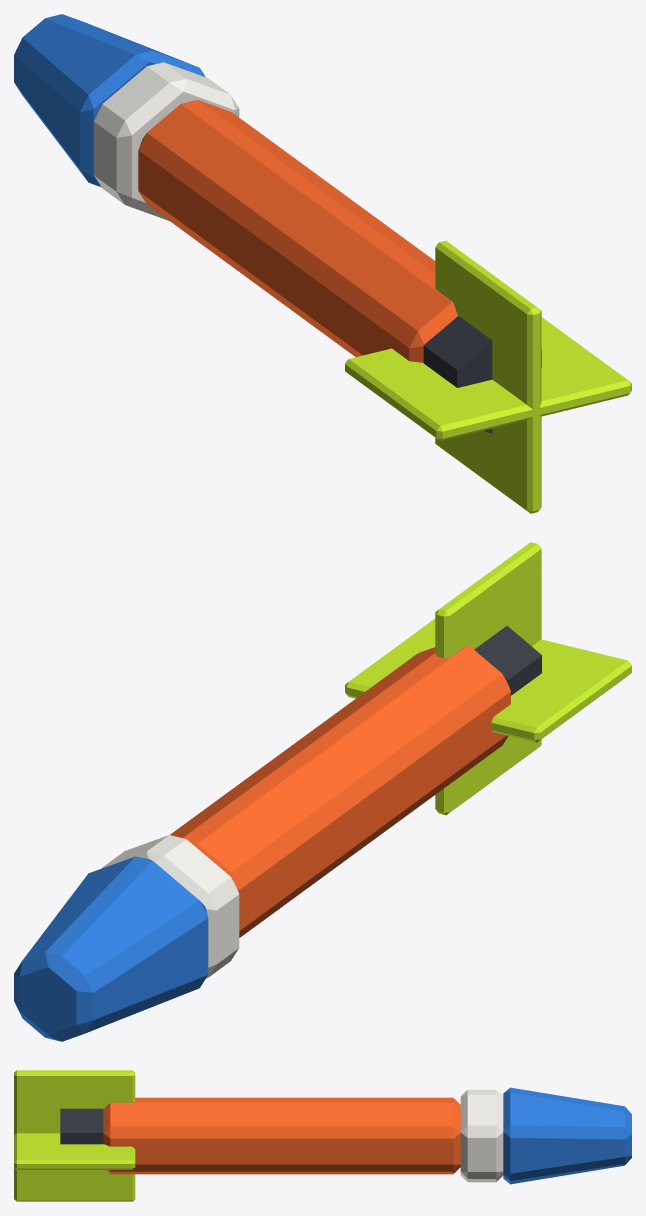
The model's file is dart.glb.
3 renders of one model, top to bottom at view 1: azimuth 30°, elevation 25°; view 2: azimuth 150°, elevation 25°; view 3: azimuth 270°, elevation 25°, orthographic. The views are drawn at different scales.
Parts seen in each view (by area): view 1: dart; view 2: dart; view 3: dart.
Part boxes in pixels (box(x1,y1,x2,y2)): dart: box(14, 14, 631, 513); dart: box(14, 542, 631, 1041); dart: box(14, 1070, 631, 1201).
Size of the model in its own units: 0.04 by 0.04 by 0.173.
